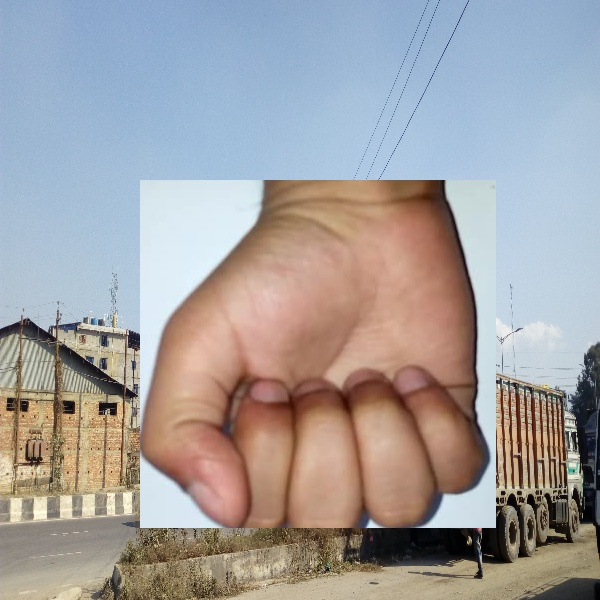A: (140, 180, 496, 528)
